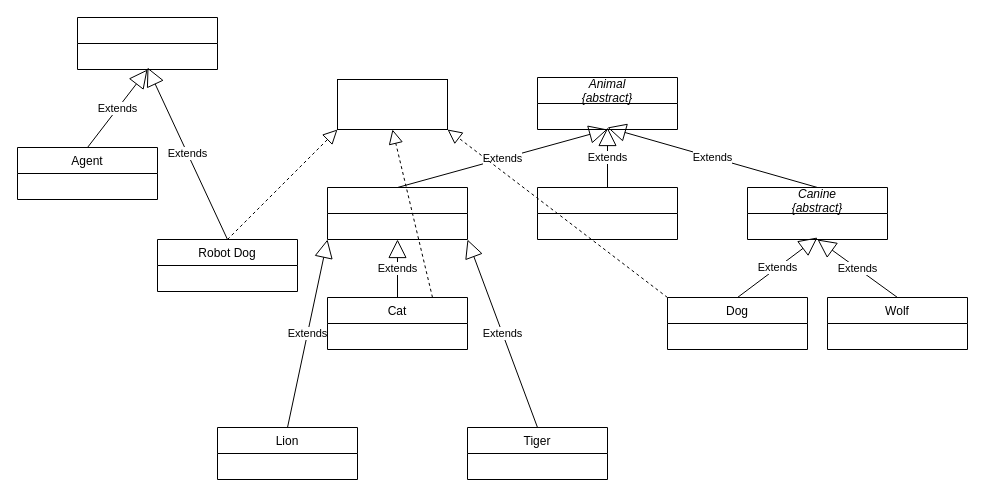
This 985x497 diagram has some shape labels left out. The centre of each missing label's shape, as x and y in pixels:
"Feline {abstract}" goes at (397,213).
"Hippo" goes at (607,213).
"Robot {abstract}" goes at (147,43).
"«interface» Pet" goes at (392,104).
